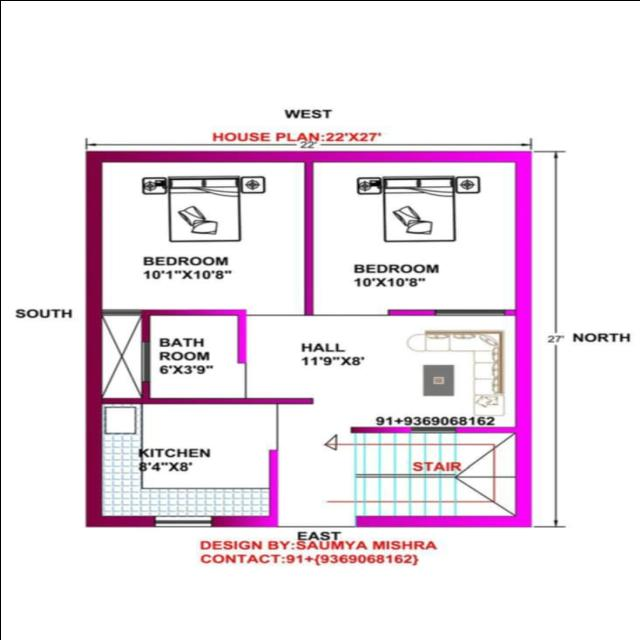column: (74, 508, 114, 530), (78, 145, 112, 170), (504, 508, 538, 533), (504, 146, 534, 170), (292, 145, 322, 169), (78, 302, 108, 324), (506, 302, 536, 324)
